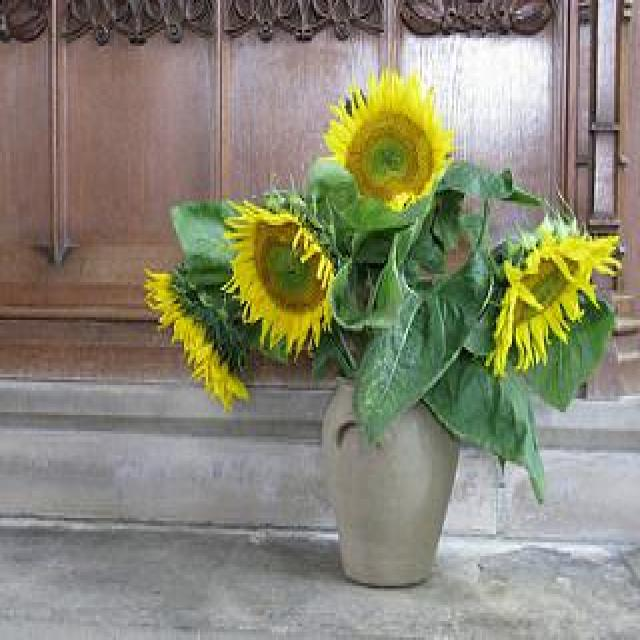sunflower: (320, 66, 452, 208), (222, 199, 336, 362), (492, 238, 620, 377), (145, 268, 247, 421)
